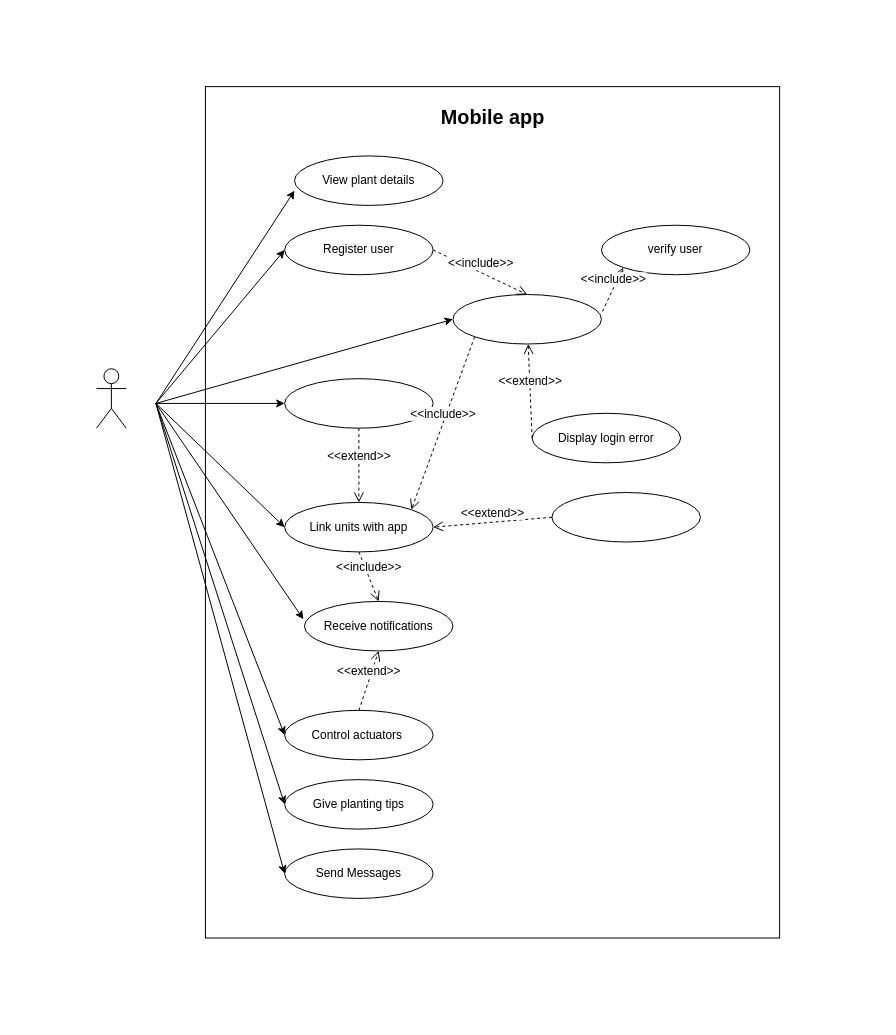
This 896x1035 diagram has some shape labels left out. The box of each missing label's shape, as (x1, y1, x2, y2) in pixels:
Login: (452, 294, 601, 344)
Unlink units: (551, 492, 700, 542)
user: (96, 368, 126, 428)
Watch status of plant: (284, 378, 433, 428)
